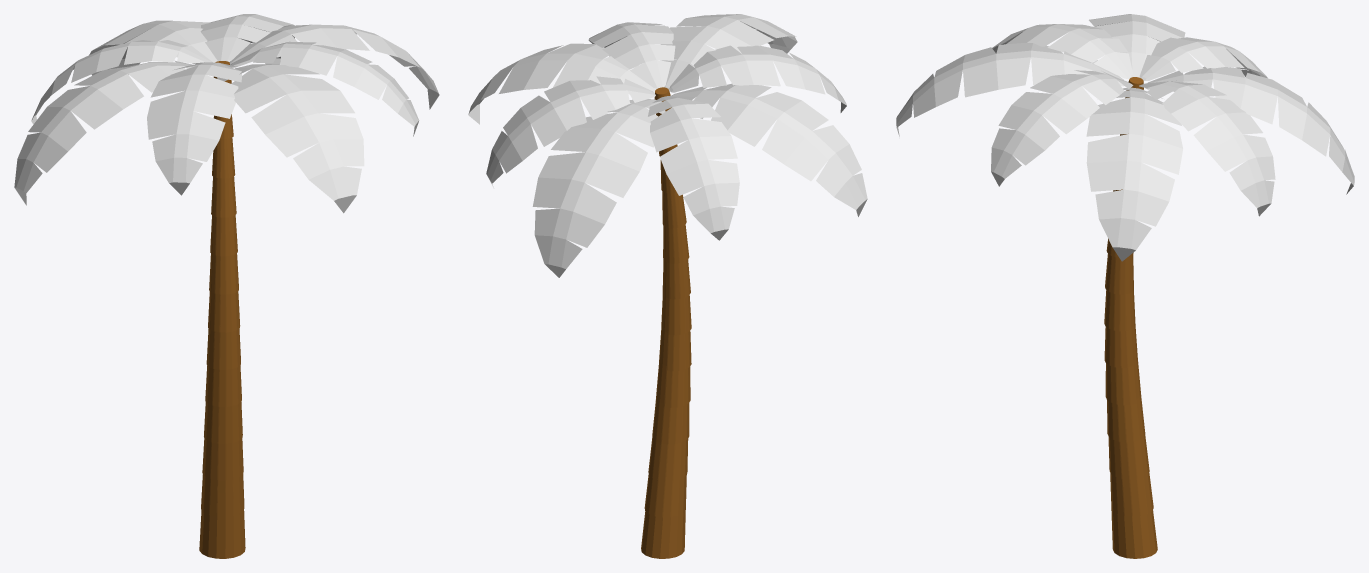
The model's file is palm tree.fbx.
The picture shows the model from 3 angles, left to right: view 1: azimuth 30°, elevation 25°; view 2: azimuth 150°, elevation 25°; view 3: azimuth 270°, elevation 25°; orthographic projection. The views are drawn at different scales.
Visible parts, largest first — view 1: Cylinder, Sphere, Sphere.004, Sphere.001, Sphere.007, Sphere.003, Sphere.005, Sphere.006, Sphere.002; view 2: Cylinder, Sphere.002, Sphere.001, Sphere.005, Sphere.006, Sphere.004, Sphere.003, Sphere, Sphere.007; view 3: Sphere.003, Cylinder, Sphere.006, Sphere.007, Sphere, Sphere.002, Sphere.004, Sphere.005, Sphere.001.
Boxes of the visible parts, x1,y1,x2,y2 form: Cylinder: (199,61,245,558); Sphere: (217,64,364,213); Sphere.004: (147,62,241,195); Sphere.001: (14,60,196,205); Sphere.007: (230,41,419,136); Sphere.003: (229,24,439,109); Sphere.005: (31,40,212,124); Sphere.006: (200,14,294,64); Sphere.002: (89,20,218,75); Cylinder: (641,87,691,558); Sphere.002: (532,99,665,277); Sphere.001: (672,83,867,216); Sphere.005: (648,95,739,240); Sphere.006: (486,76,655,187); Sphere.004: (669,45,846,112); Sphere.003: (468,43,656,124); Sphere: (660,14,797,91); Sphere.007: (588,22,675,88); Sphere.003: (1086,87,1182,261); Cylinder: (1104,77,1157,558); Sphere.006: (1139,80,1275,216); Sphere.007: (991,70,1133,186); Sphere: (896,43,1123,136); Sphere.002: (1145,66,1354,194); Sphere.004: (992,24,1133,78); Sphere.005: (1139,37,1267,80); Sphere.001: (1089,14,1185,80).
Bounding box in the file's own units: 212 × 252 × 211.
